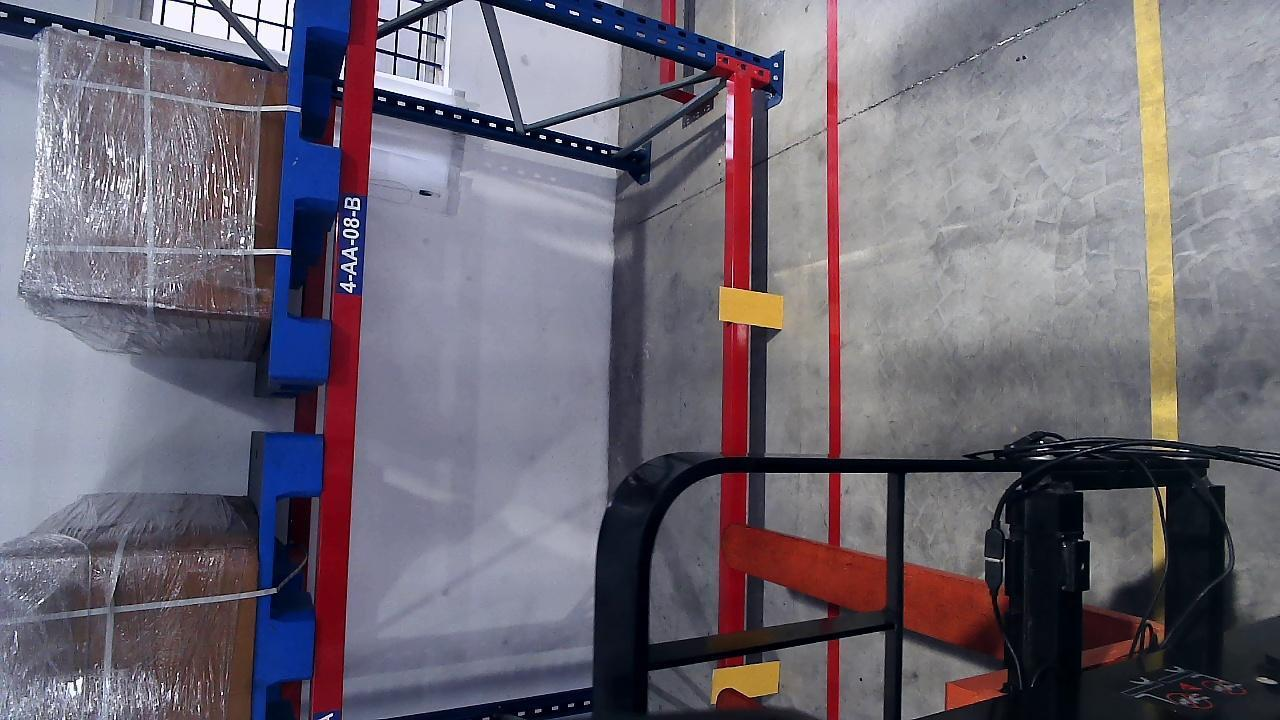red_line: (822, 84, 844, 421)
yellow_line: (1134, 0, 1180, 438)
